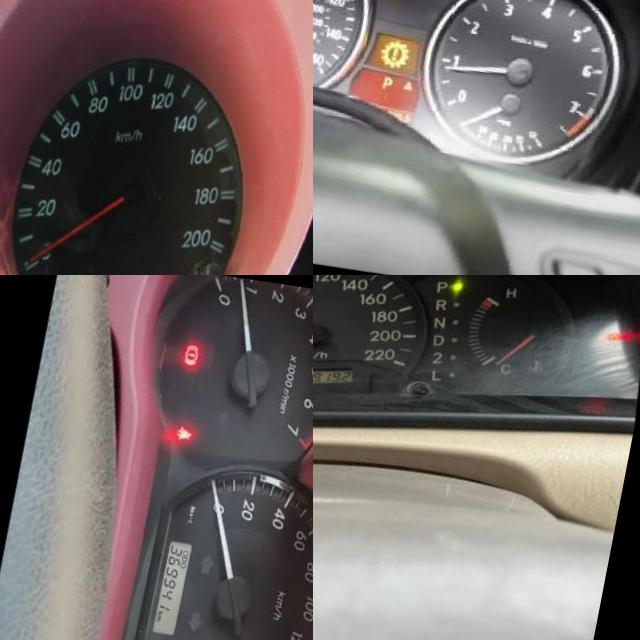Seat Belt: (182, 418, 199, 435)
